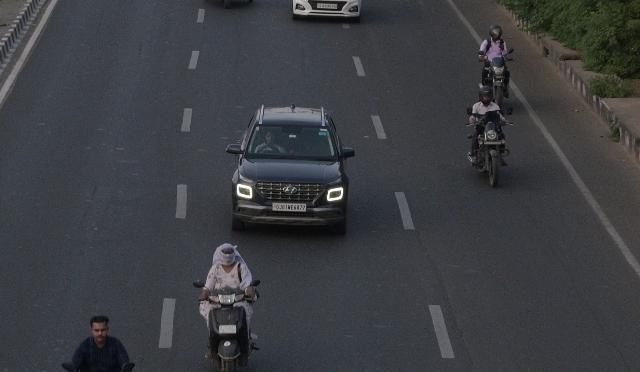With Helmet: (477, 82, 495, 105), (487, 24, 503, 40)
Without Helmet: (210, 241, 242, 265)
